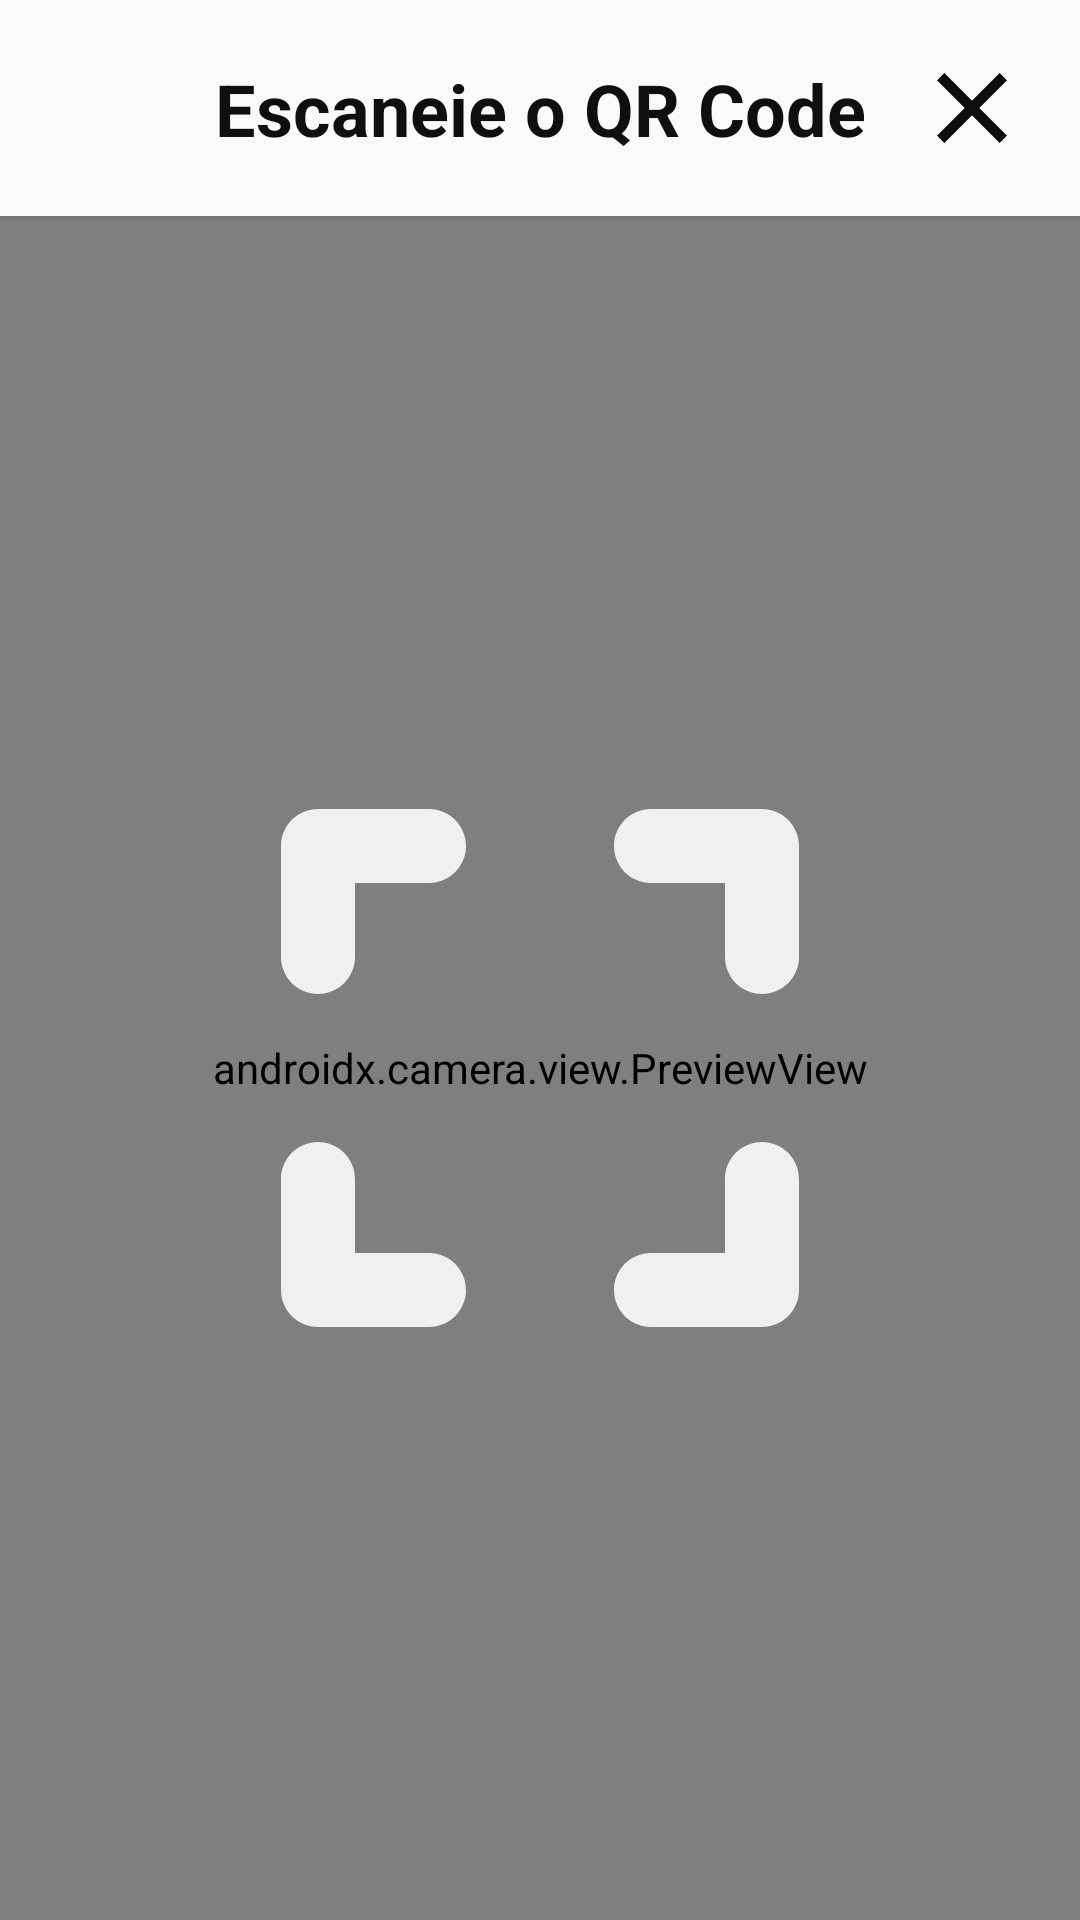

Where icons sit on this 1080px×1920px app screen, as (x1, y1, x2, y2):
cancel: (937, 73, 1007, 143)
